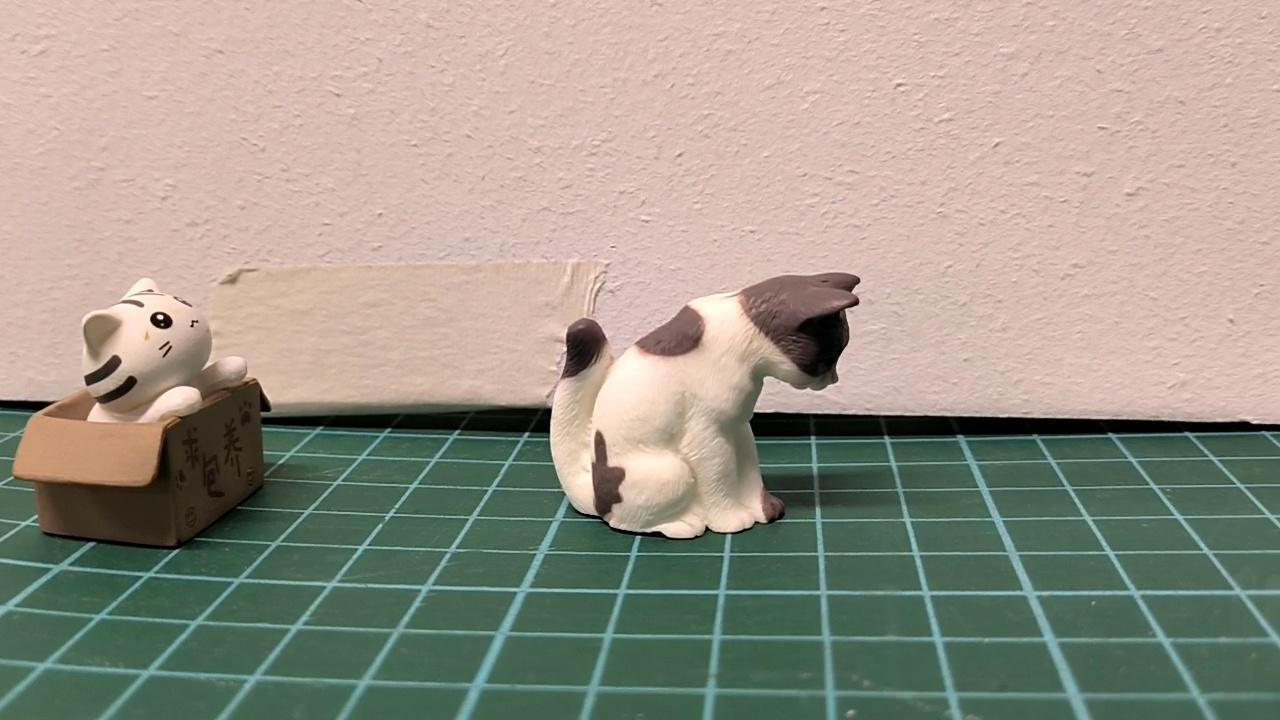pet: (544, 270, 863, 541), (75, 275, 250, 434)
